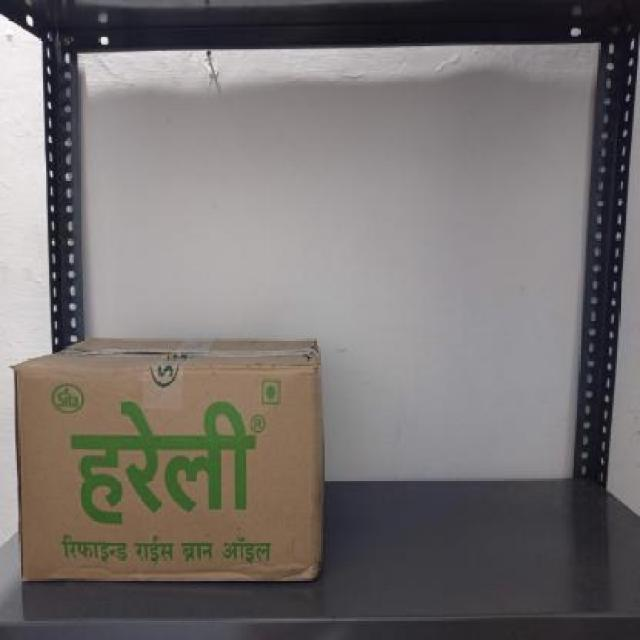box: (15, 360, 321, 585)
